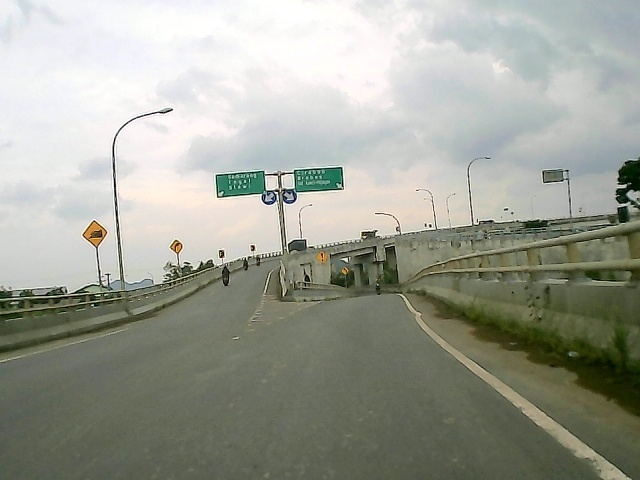Hati-hati: (315, 249, 329, 263)
Jalanan menanjak: (81, 219, 109, 250)
Tikungan ke kanan: (168, 238, 184, 254)
